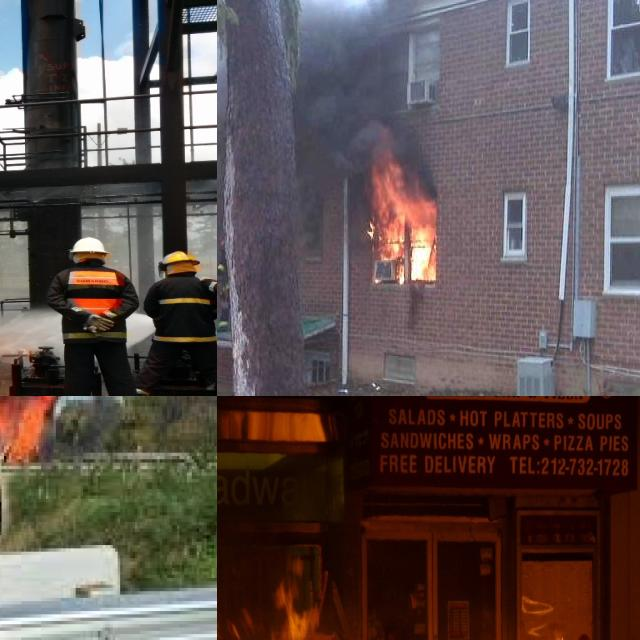fire: (366, 140, 438, 283), (0, 396, 73, 465)
smoke: (217, 0, 428, 238)
